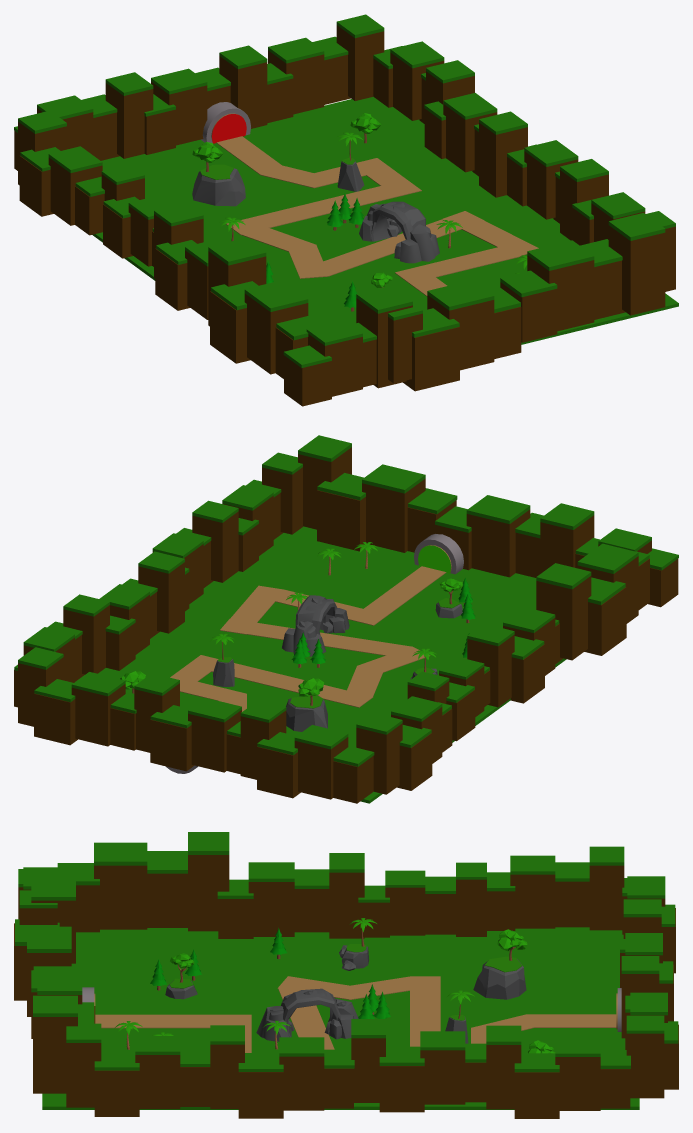
Rendered from Map.fbx.
The picture shows the model from 3 angles, top to bottom: view 1: azimuth 30°, elevation 25°; view 2: azimuth 150°, elevation 25°; view 3: azimuth 270°, elevation 25°; orthographic projection. The views are drawn at different scales.
Visible parts, largest first — view 1: tower defence map; view 2: tower defence map; view 3: tower defence map.
Boxes of the visible parts, <box> form: tower defence map: <box>14,14,678,406</box>; tower defence map: <box>14,435,678,803</box>; tower defence map: <box>14,832,678,1118</box>.
Size of the model in its own units: 13653 by 3070 by 18299.
